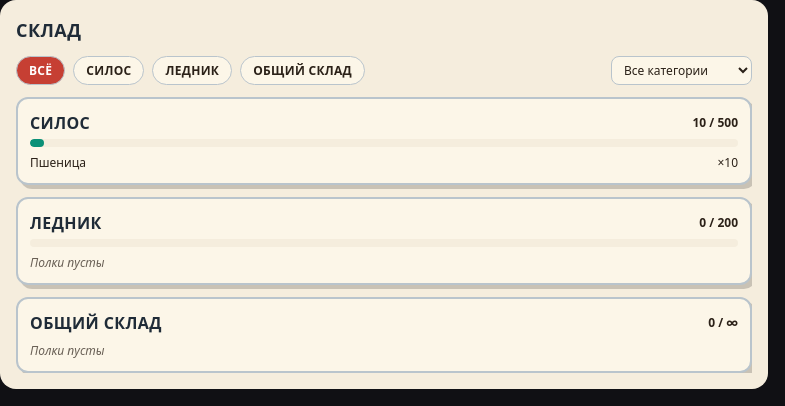
Test: StorageOverlay (F4) › фильтр по виду хранилища скрывает остальные полки
The image size is (785, 406).
Click the button with test id "storage-kind-tab-silo" at [109, 70], box [73,56,144,85]
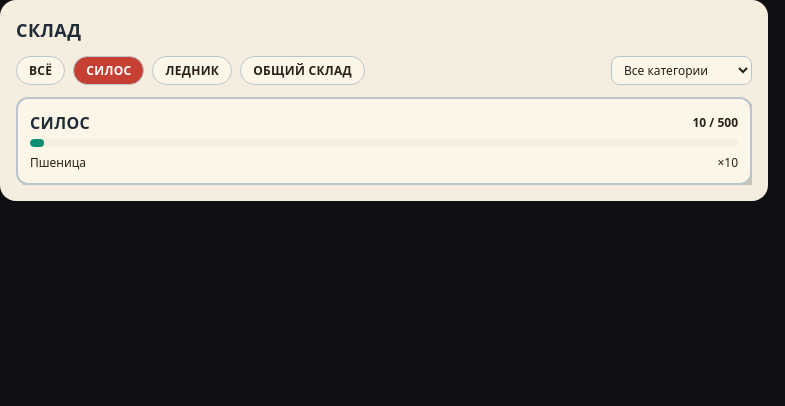
Expected: the element with test id "storage-shelf-silo" is shown, [16,97,752,185]
Now the element with test id "storage-shelf-icehouse" is gone
